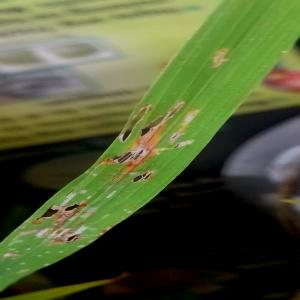1 RiceBlast: (123, 101, 184, 143), (39, 178, 88, 227), (42, 218, 91, 267), (107, 142, 154, 169), (120, 166, 159, 192)
